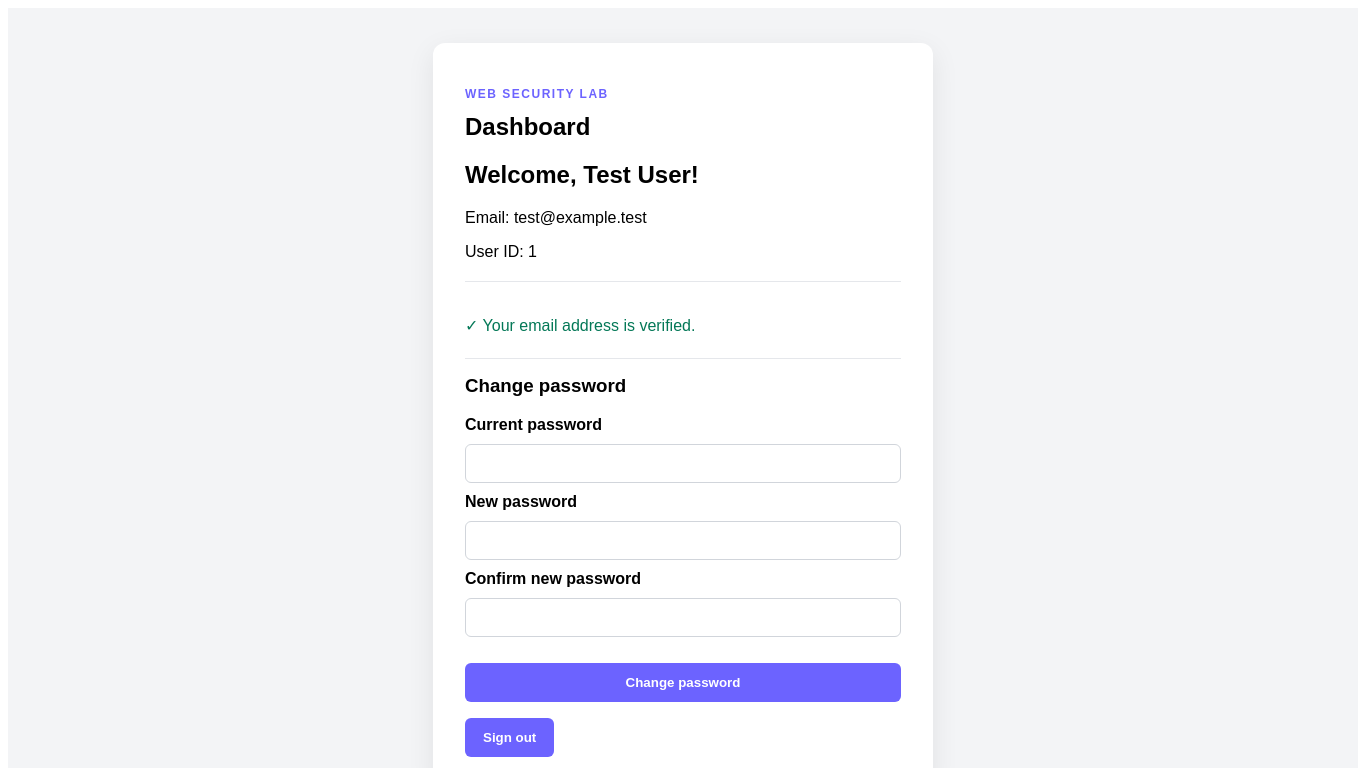
Test case: DashboardView › changes the password and clears the form after success
This screenshot has width=1366, height=768.
Type "CurrentPass123!" into the password field with id "current-password" at (683, 463), box 465,444 -> 901,483
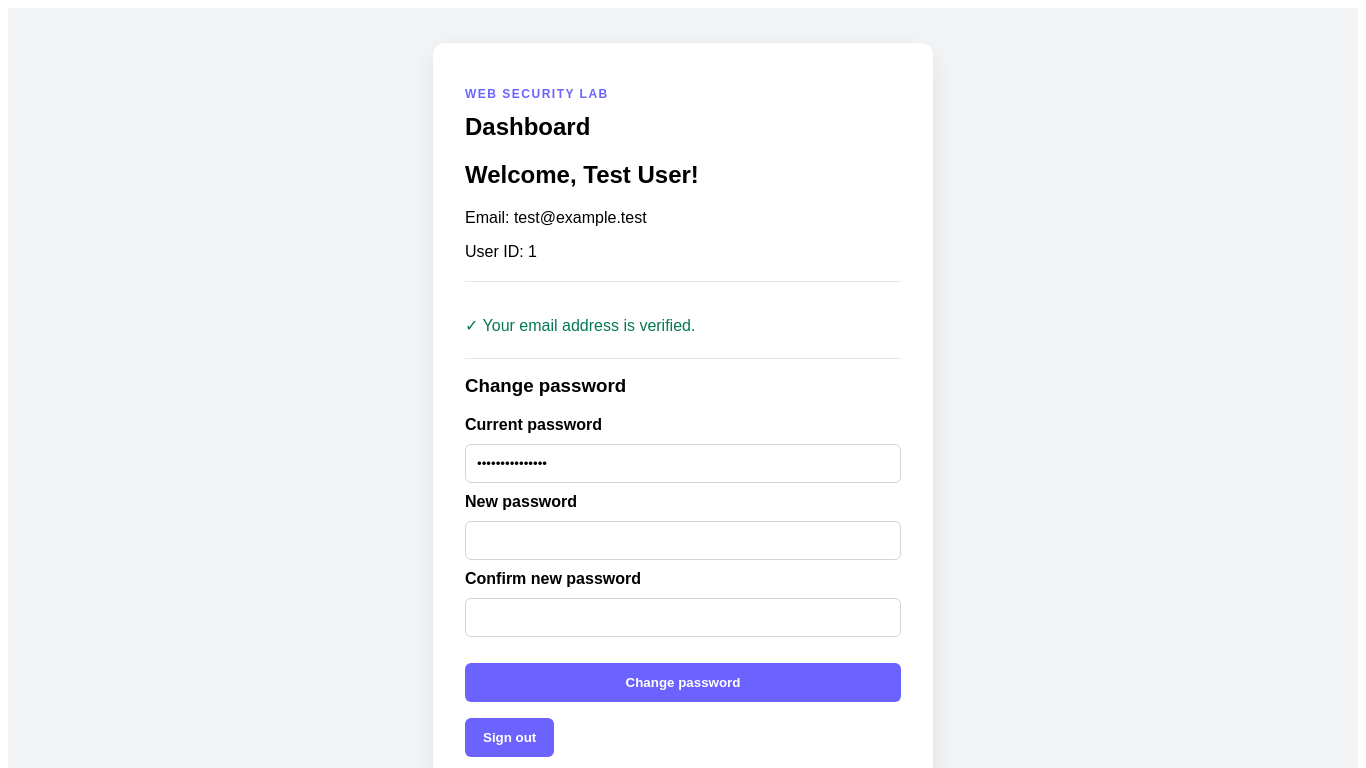
Type "NewSecurePass456!" into the password field with id "new-password" at (683, 540), box 465,521 -> 901,560
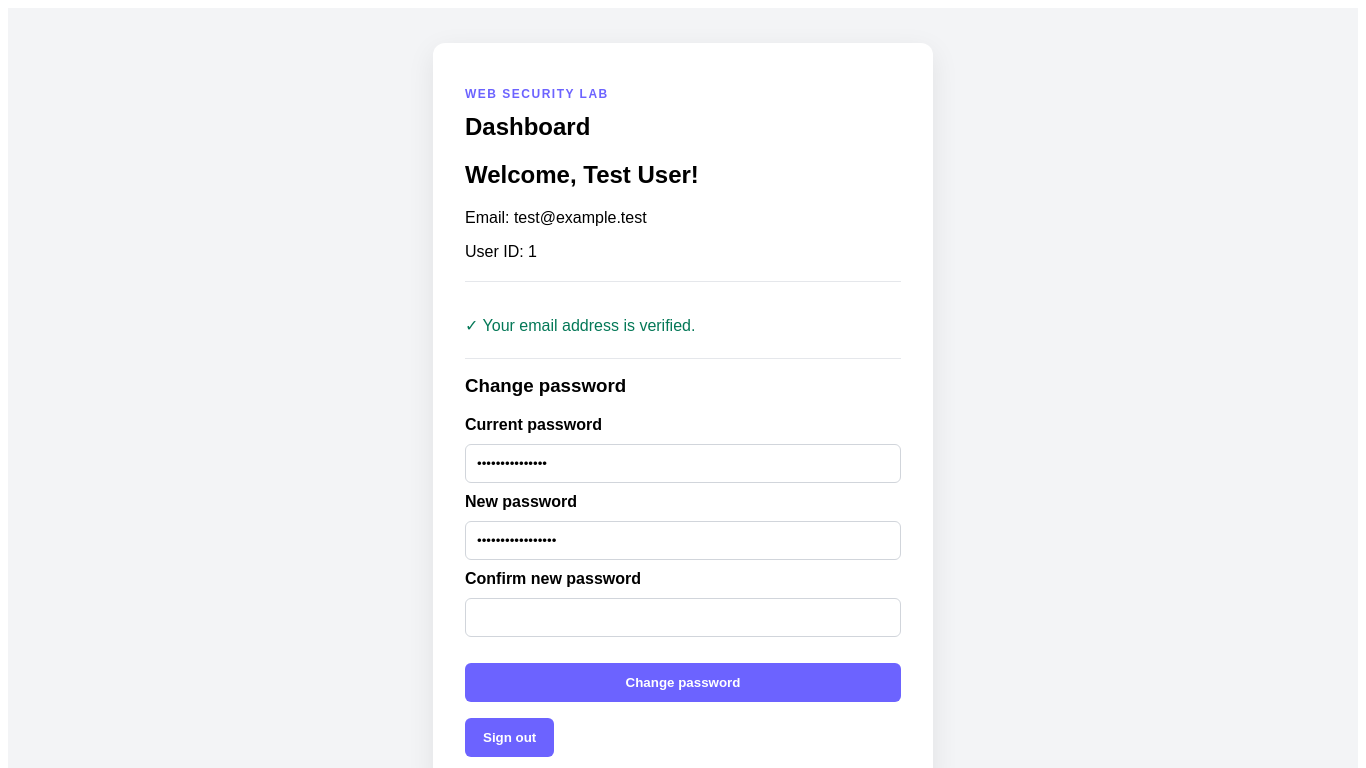
Type "NewSecurePass456!" into the password field labelled "Confirm new password" at (683, 617), box 465,598 -> 901,637
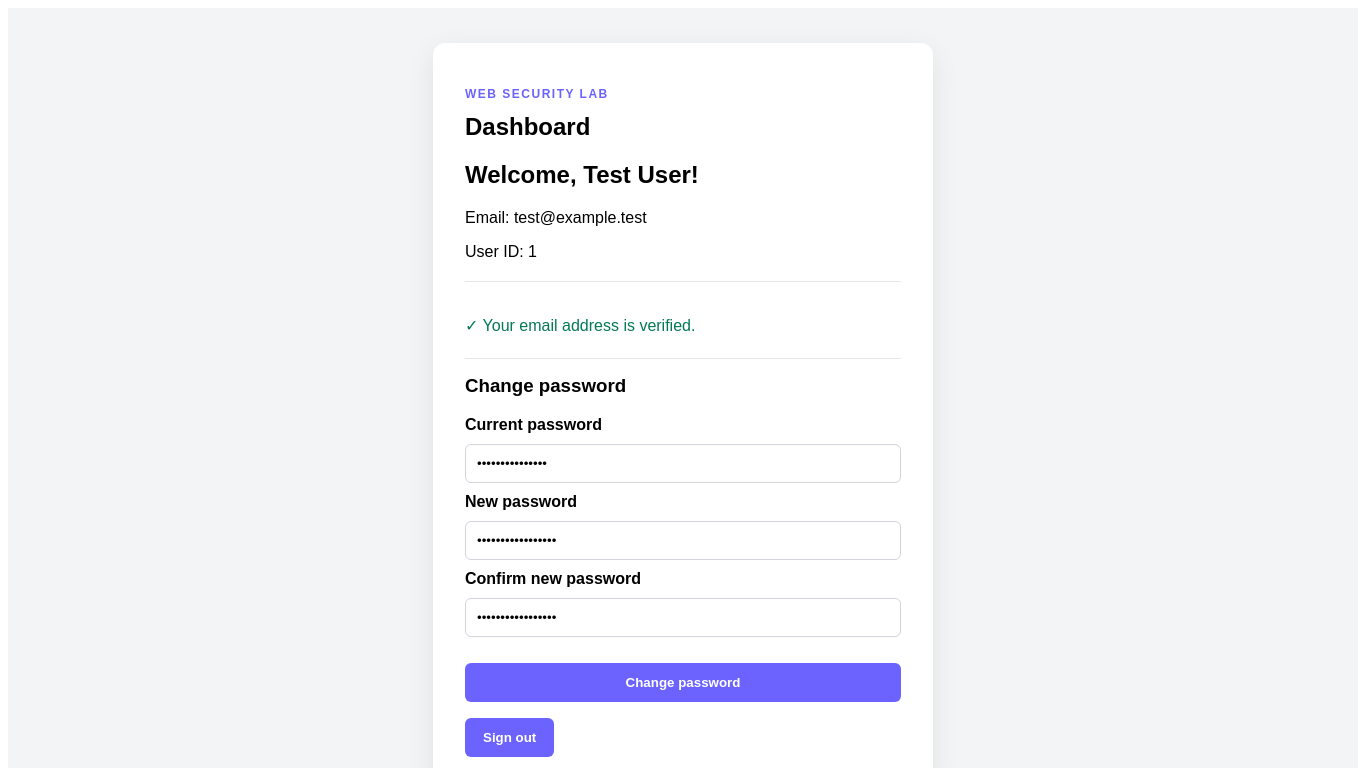
Submit the form, box 465,416 -> 901,702
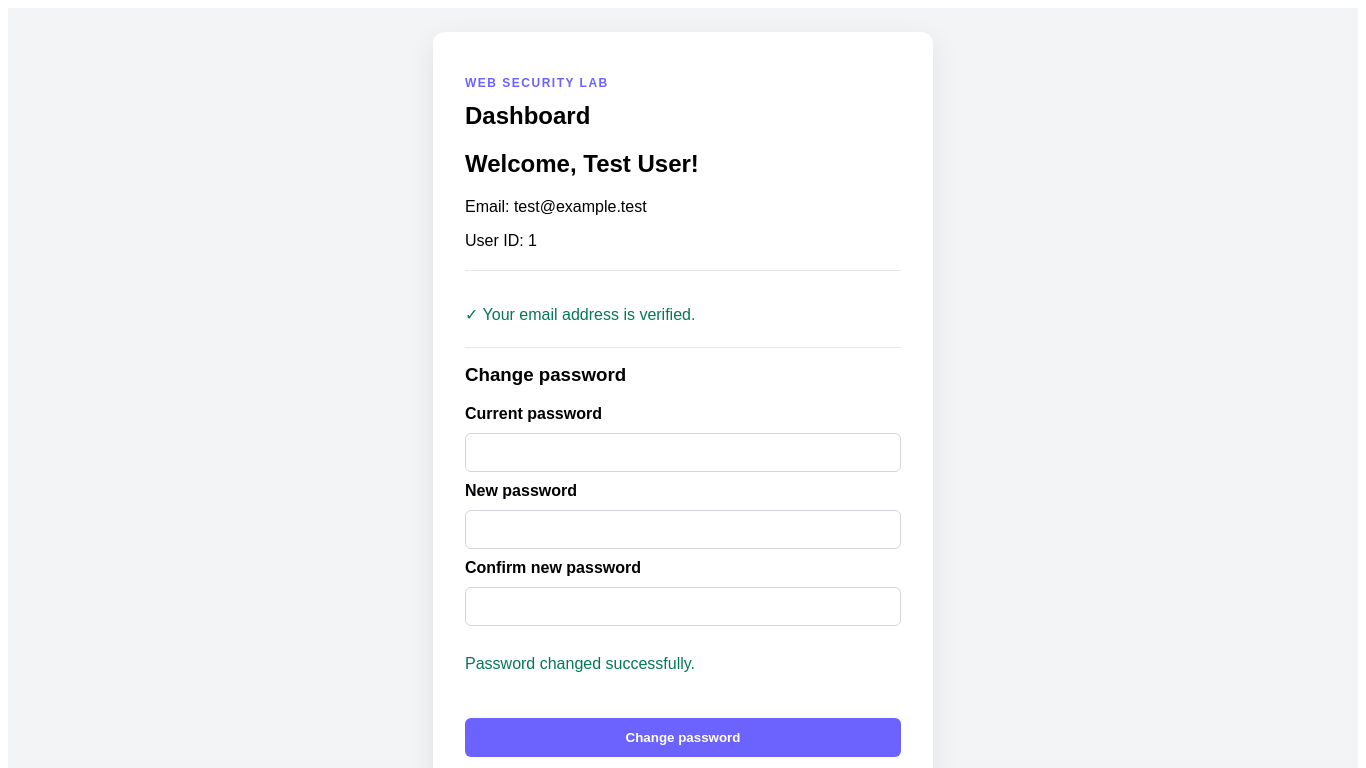
Expected: the text "Password changed successfully." is shown, 465,654 -> 695,672
Expected: the password field with id "current-password" is empty, 465,432 -> 901,472
Expected: the password field with id "new-password" is empty, 465,510 -> 901,548
